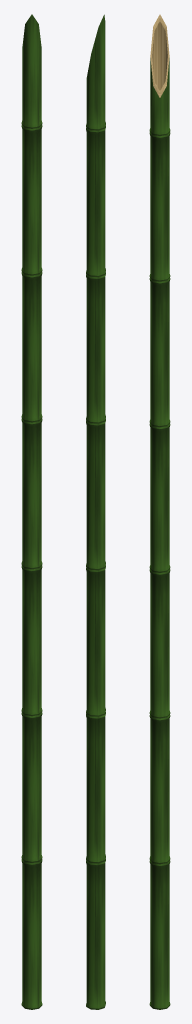
The model's file is takeyari1.fbx.
The picture shows the model from 3 angles, left to right: view 1: azimuth 90°, elevation 25°; view 2: azimuth 150°, elevation 25°; view 3: azimuth 270°, elevation 25°; orthographic projection.
Visible parts, largest first — view 1: bdef:obj1; view 2: bdef:obj1; view 3: bdef:obj1.
Boxes of the visible parts, bbox=[...] form: bdef:obj1: bbox=[21, 14, 42, 1009]; bdef:obj1: bbox=[86, 14, 105, 1009]; bdef:obj1: bbox=[149, 14, 170, 1009].
Bounding box in the file's own units: 5.2 × 271 × 5.2.
